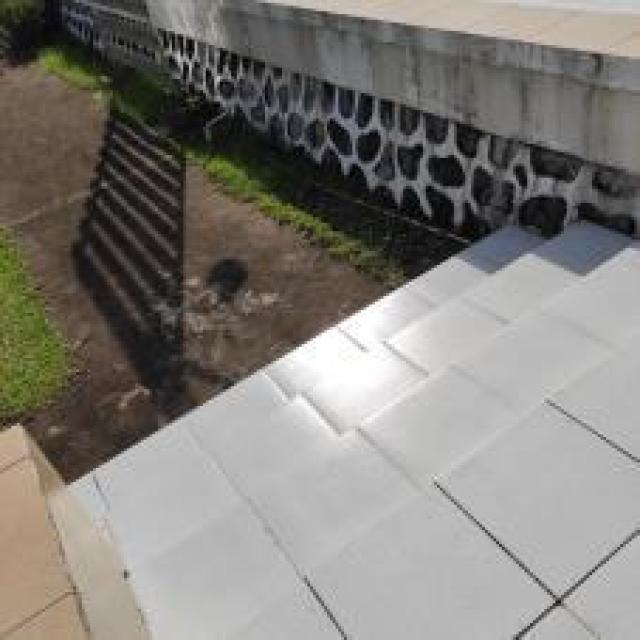downstair: (72, 204, 638, 638)
